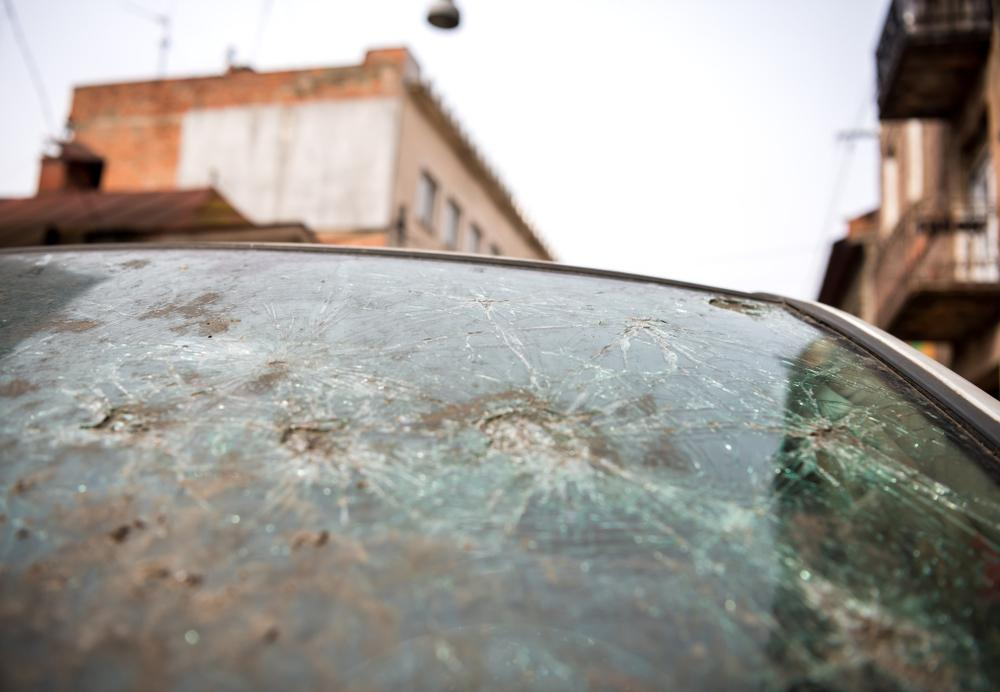glass shatter: (0, 248, 1000, 692)
